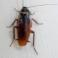cockroach: (16, 5, 32, 47)
